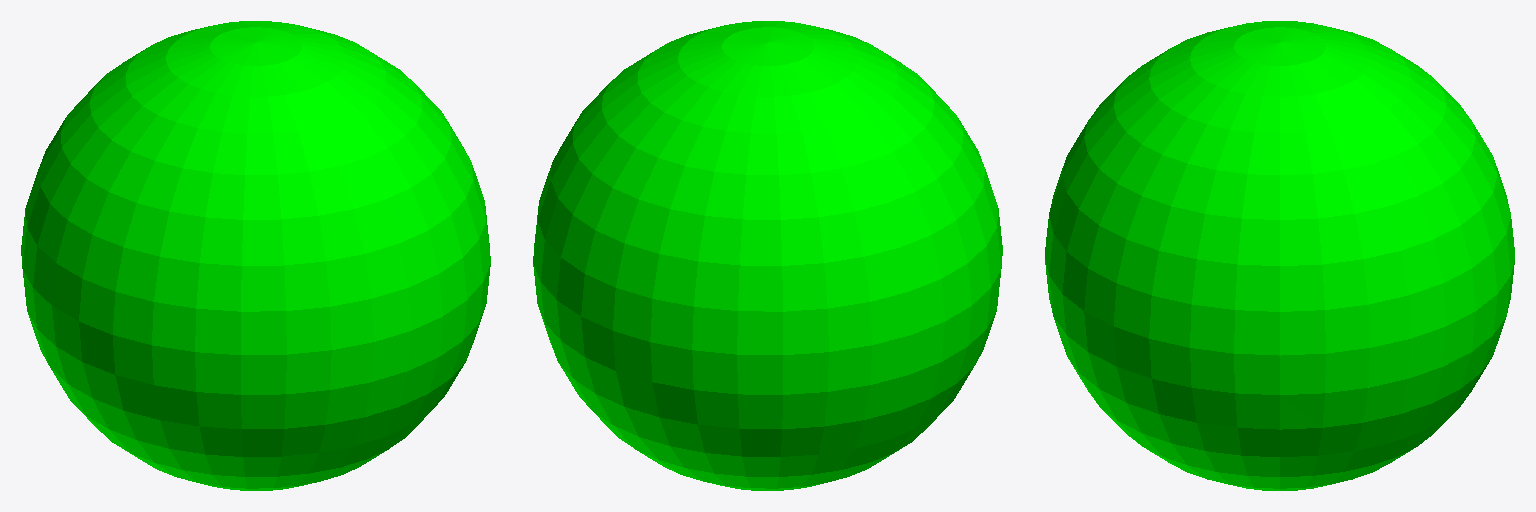
Rendered from energy.obj.
3 views of the same model, side by side, from view 1: azimuth 30°, elevation 25°; view 2: azimuth 150°, elevation 25°; view 3: azimuth 270°, elevation 25° (orthographic).
Visible parts, largest first — view 1: Sphere; view 2: Sphere; view 3: Sphere.
Boxes of the visible parts, box(x1,y1,x2,y2) form: Sphere: box(21, 21, 490, 490); Sphere: box(533, 21, 1002, 490); Sphere: box(1045, 21, 1514, 490).
Size of the model in its own units: 0.3544 by 0.3544 by 0.3544.